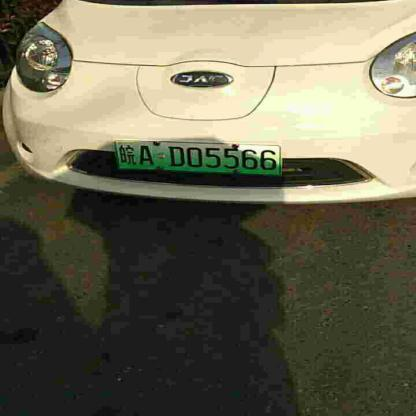lp: (115, 141, 281, 174)
